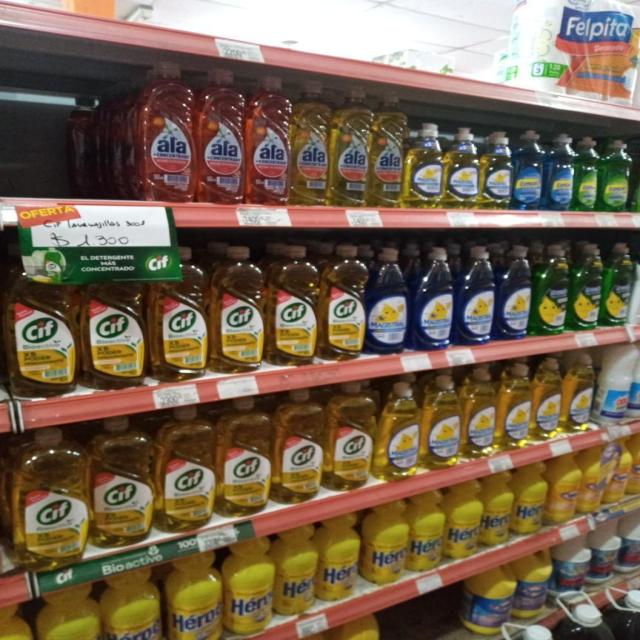ala_conc_amarillo: (330, 84, 370, 208), (292, 79, 329, 207), (371, 87, 404, 209)
ala_conc_rojo: (135, 60, 195, 204), (198, 66, 245, 206), (248, 73, 291, 206)
cif_conc_bot_amarilla: (12, 426, 89, 572), (5, 263, 78, 399), (92, 414, 155, 549), (82, 266, 146, 391), (150, 246, 208, 382), (158, 404, 216, 534), (211, 244, 265, 375), (218, 394, 272, 518), (268, 244, 318, 367), (275, 388, 324, 505), (320, 243, 366, 363), (326, 380, 374, 492), (0, 432, 10, 579)
esencial: (513, 130, 544, 211), (545, 132, 574, 211), (600, 137, 630, 212), (574, 136, 599, 212), (631, 139, 640, 213), (632, 243, 640, 325)
magistral_con_amarillo: (377, 380, 420, 481), (422, 374, 460, 470), (404, 122, 442, 209), (463, 366, 496, 460), (444, 125, 480, 209), (498, 362, 531, 451), (480, 129, 512, 210), (563, 351, 594, 434), (533, 356, 561, 442)
magistral_con_azul: (367, 246, 410, 356), (413, 246, 454, 352), (456, 245, 495, 346), (497, 244, 531, 341)
magistral_con_verde: (604, 242, 632, 326)
